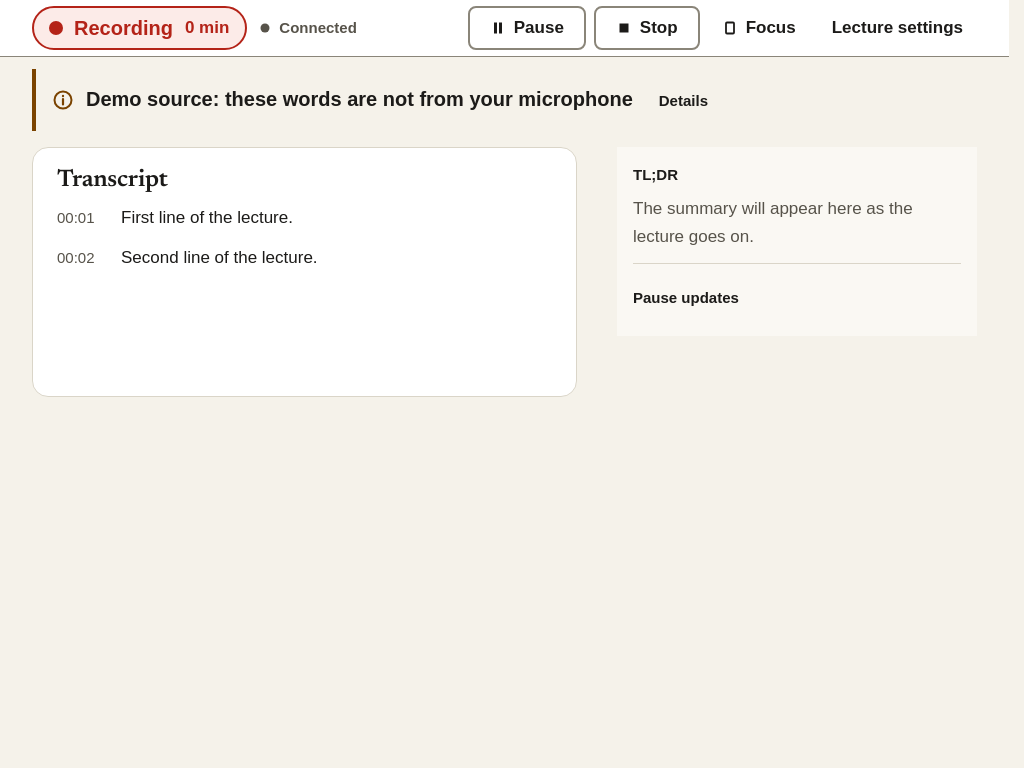
it: Paused state (UX section 3) › AC3 + AC4: after Pause focus is the panel Resume button; after Resume it is the status-bar Pause button; one announcement each
Click the button "Pause" at (527, 28), box [468,6,586,50]
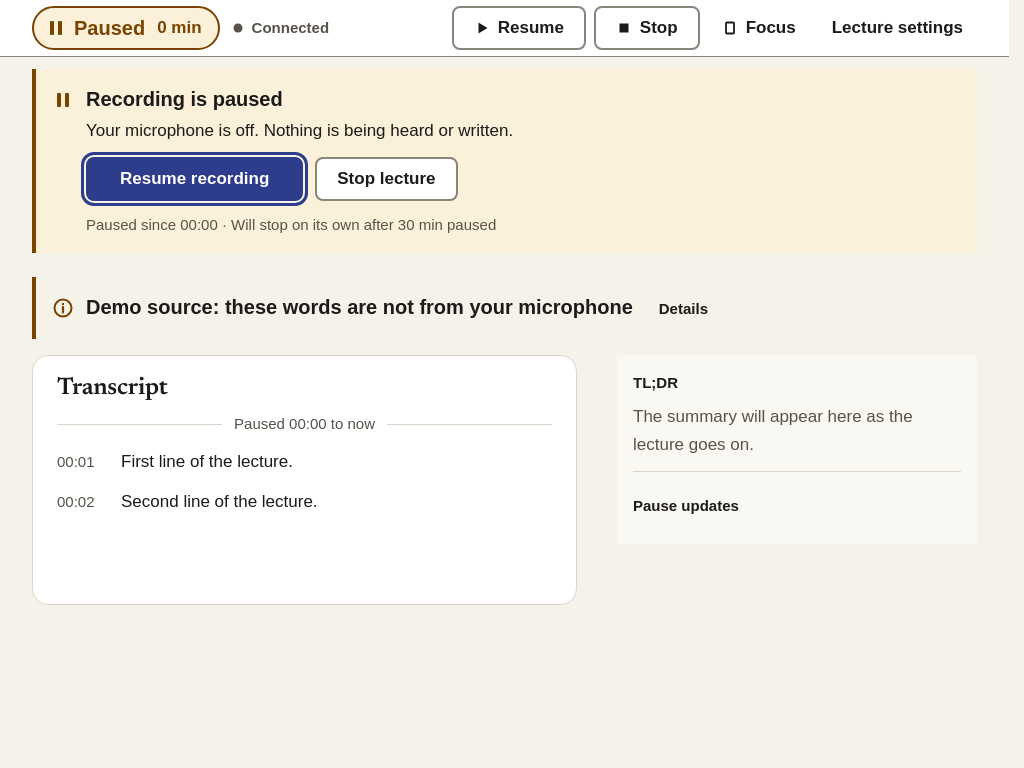
Press Enter
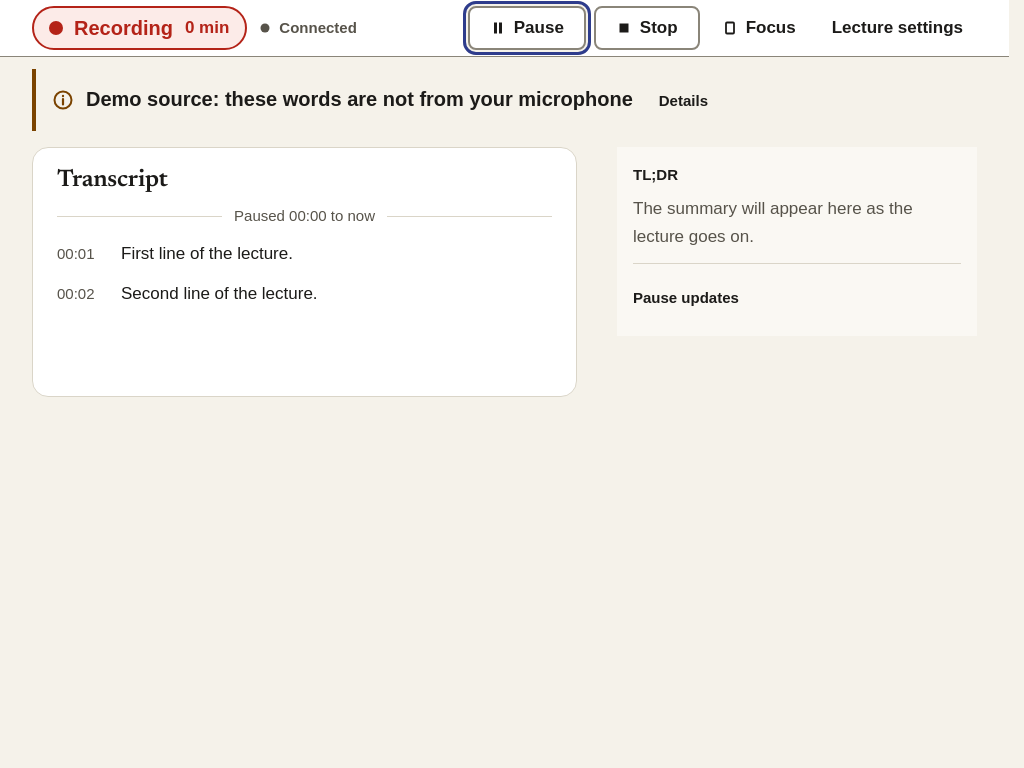
Check: the text "Recording is paused" is gone
Check: the text with test id "state-label" reads "Recording", box [74,17,173,39]
